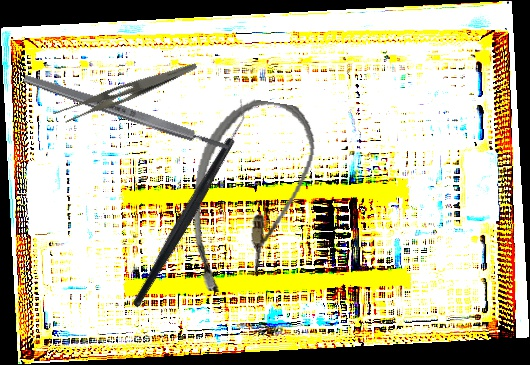Cannula: (179, 92, 322, 304)
Chopper: (76, 97, 303, 309)
Dressing Forceps: (51, 47, 199, 133)
Scalpel Handle: (22, 71, 231, 155)
